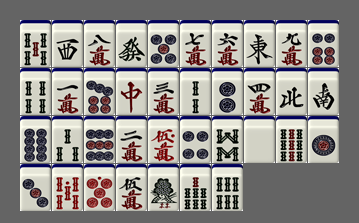0m: (148, 116, 179, 163)
0p: (84, 164, 115, 211)
0s: (52, 164, 83, 211)
1m: (52, 68, 83, 115)
1p: (308, 116, 339, 163)
1s: (148, 164, 179, 211)
1z: (244, 20, 275, 67)
2m: (116, 116, 147, 163)
2p: (212, 68, 243, 115)
2s: (180, 68, 211, 115)
2z: (308, 68, 339, 115)
3m: (148, 68, 179, 115)
3p: (20, 164, 51, 211)
3s: (52, 116, 83, 163)
3z: (52, 20, 83, 67)
4m: (244, 68, 275, 115)
4p: (180, 116, 211, 163)
4s: (20, 68, 51, 115)
4z: (276, 68, 307, 115)
5m: (116, 164, 147, 211)
5p: (148, 20, 179, 67)
5s: (20, 20, 51, 67)
5z: (244, 116, 275, 163)
6m: (212, 20, 243, 67)
6p: (308, 20, 339, 67)
6s: (212, 164, 243, 211)
6z: (116, 20, 147, 67)
7m: (180, 20, 211, 67)
7p: (84, 68, 115, 115)
7s: (180, 164, 211, 211)
7z: (116, 68, 147, 115)
8m: (84, 20, 115, 67)
8p: (20, 116, 51, 163)
8s: (212, 116, 243, 163)
9m: (276, 20, 307, 67)
9p: (84, 116, 115, 163)
9s: (276, 116, 307, 163)
